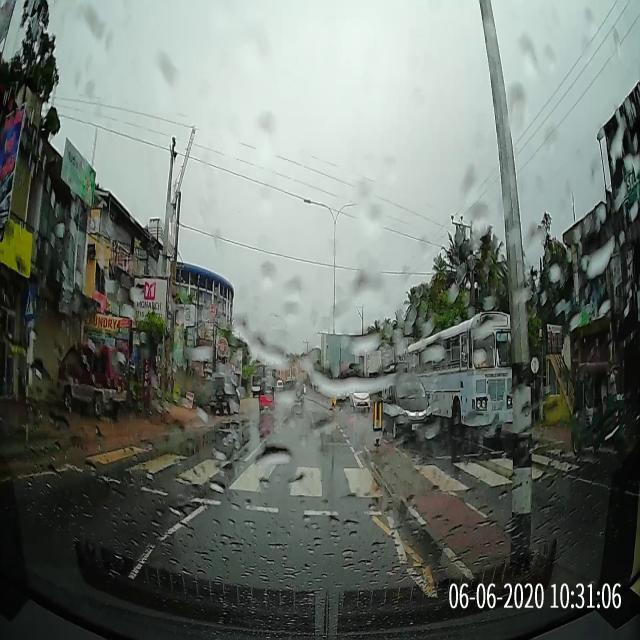Crosswalk: (55, 437, 599, 520)
